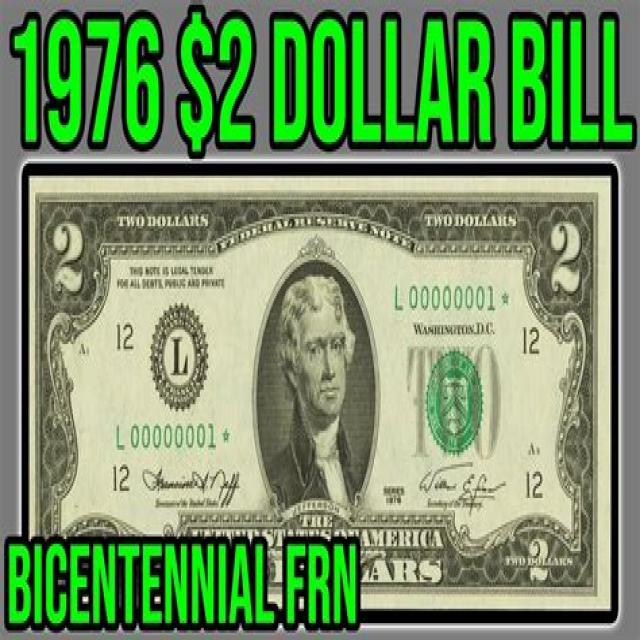Two: (30, 180, 611, 610)
